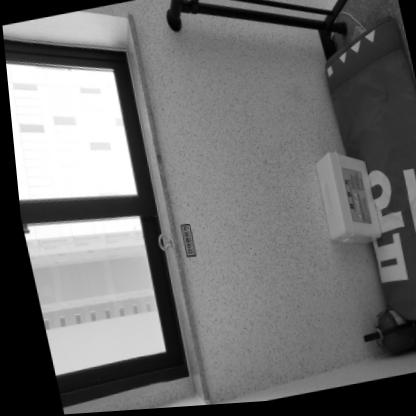DDL: (306, 150, 377, 253)
